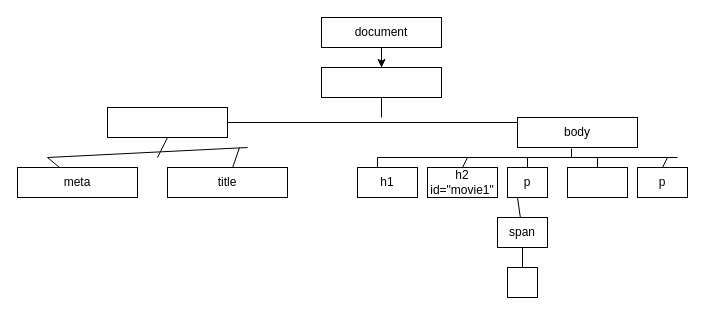
The diagram is 705 pixels wide and 315 high, and some of its shapes have lost their labels. The shapes that lost their labels are listed below. From the top down, each one's centre as x and y in pixels, then its label:
(381,82): html
(167,122): head
(597,182): h2 id="movie2"
(522,282): em
